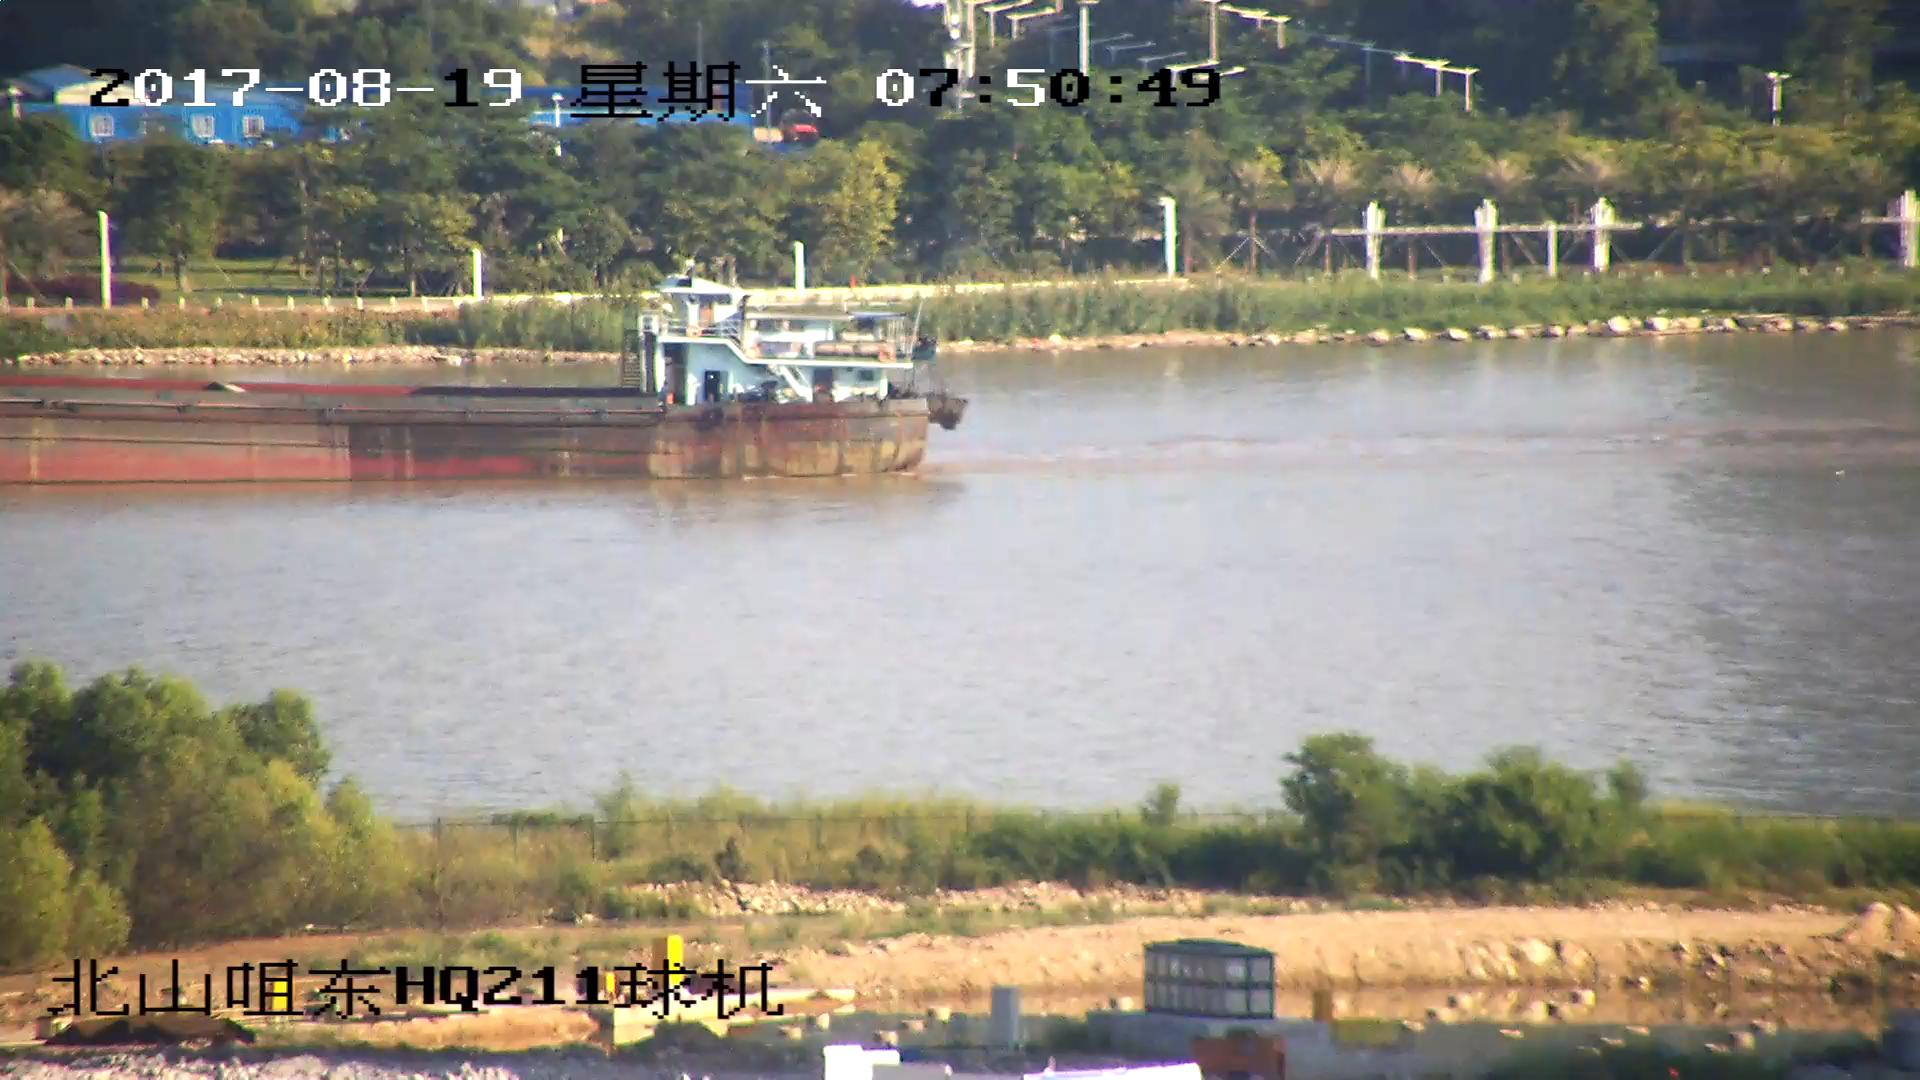bulk cargo carrier: (1, 272, 968, 483)
